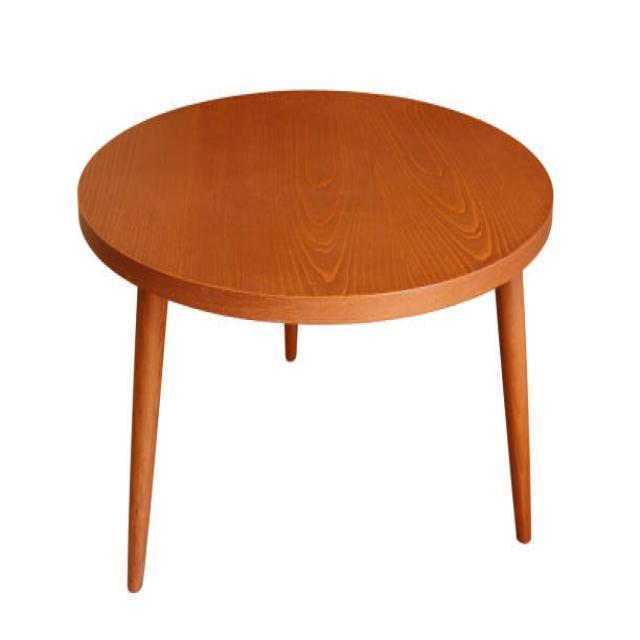table: (77, 86, 554, 593)
